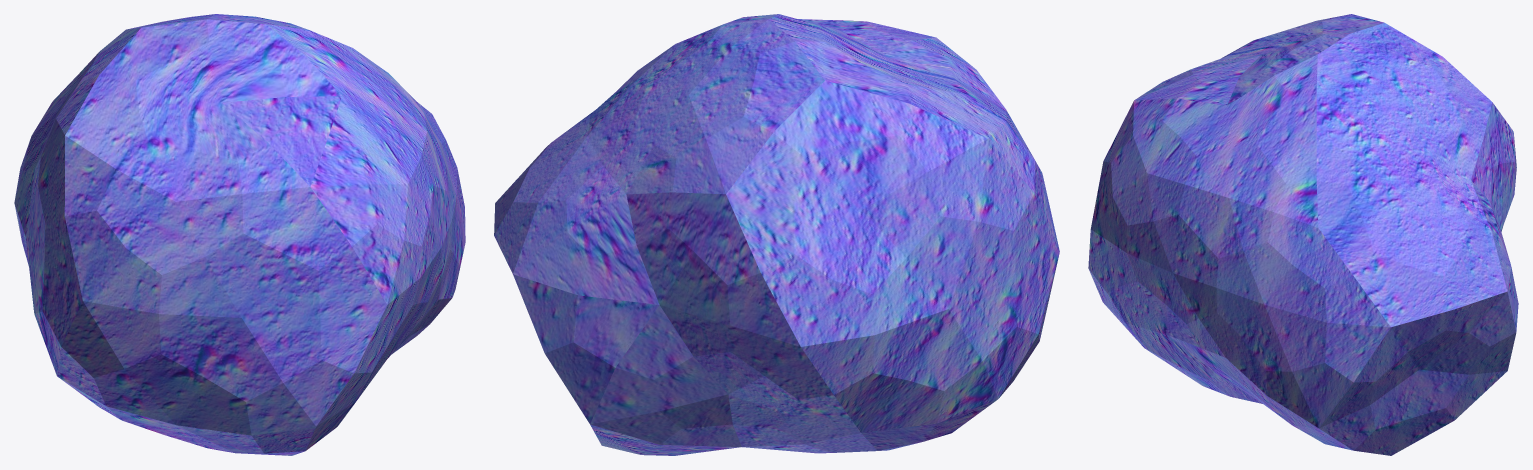
File: mediumasteroid9_LOD3.fbx
3 renders of one model, left to right at view 1: azimuth 30°, elevation 25°; view 2: azimuth 150°, elevation 25°; view 3: azimuth 270°, elevation 25°, orthographic. The views are drawn at different scales.
Parts seen in each view (by area): view 1: Icosphere; view 2: Icosphere; view 3: Icosphere.
Part boxes in pixels (bbox=[...]): Icosphere: bbox=[14, 14, 465, 455]; Icosphere: bbox=[494, 14, 1059, 455]; Icosphere: bbox=[1088, 14, 1518, 455].
Size of the model in its own units: 257 by 218 by 237.
